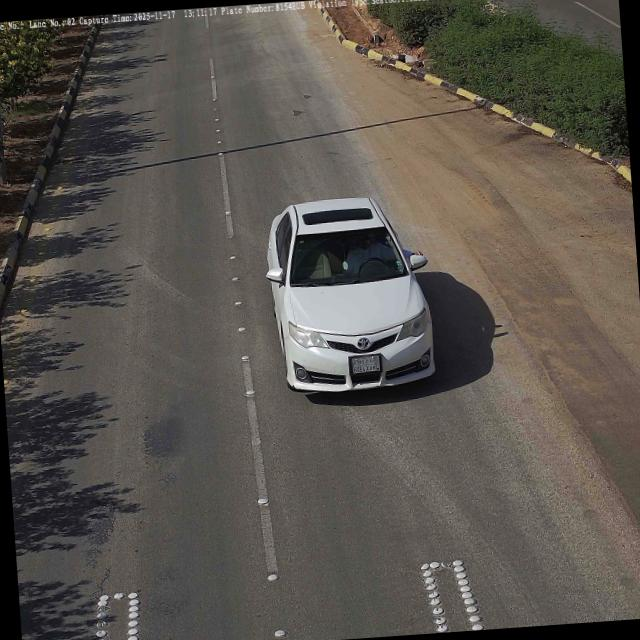person_without_seatbelt: (344, 228, 387, 274)
